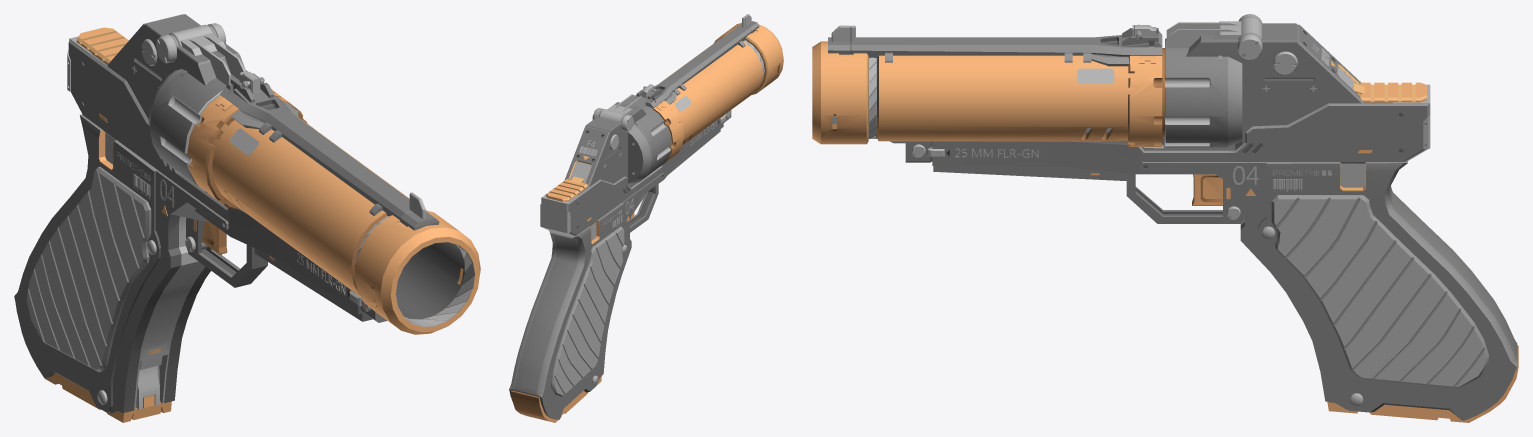
Rendered from Player's Gun 1.fbx.
3 views of the same model, side by side, from view 1: azimuth 30°, elevation 25°; view 2: azimuth 150°, elevation 25°; view 3: azimuth 270°, elevation 25° (orthographic). The views are drawn at different scales.
Visible parts, largest first — view 1: polySurface134, pCube153, polySurface135; view 2: polySurface134, polySurface135, pCube153; view 3: polySurface134, pCube153, polySurface135.
Part boxes in pixels (box(x1,y1,x2,y2)): polySurface134: box(14, 14, 439, 413); pCube153: box(44, 27, 480, 422); polySurface135: box(27, 23, 474, 410); polySurface134: box(509, 21, 759, 419); polySurface135: box(540, 14, 764, 396); pCube153: box(511, 23, 783, 422); polySurface134: box(828, 23, 1517, 420); pCube153: box(812, 41, 1518, 422); polySurface135: box(831, 14, 1488, 405).
Size of the model in its own units: 0.9158 by 3.55 by 5.86.
